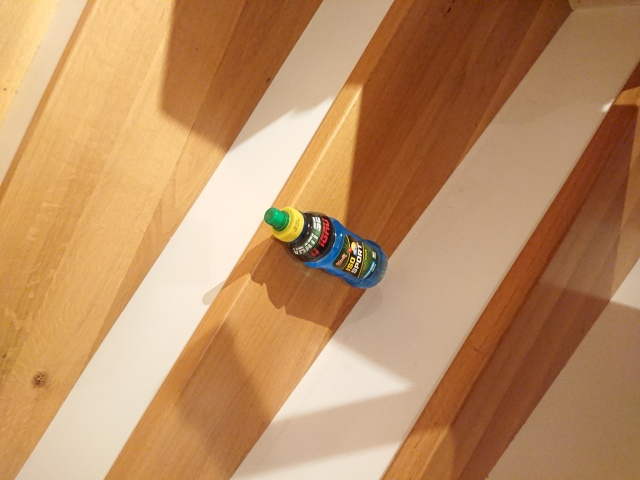Vindi Iso Sport Forest Strawberries 500mL: (263, 204, 390, 291)
